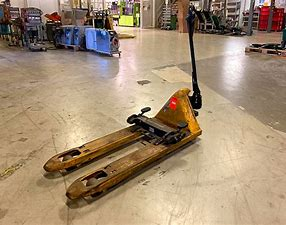Pallet Jack: (41, 3, 204, 201)
